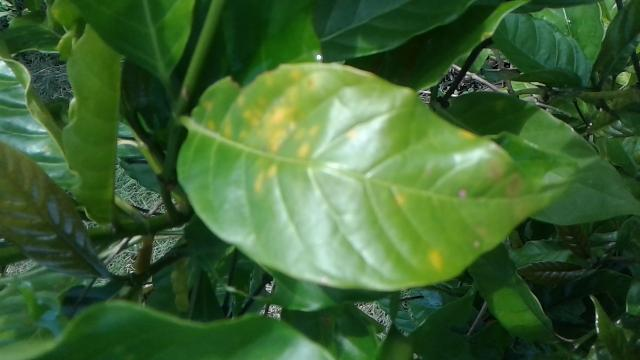rust_level_2: (177, 65, 542, 290)
